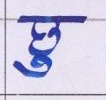u_matra: (14, 53, 55, 79)
